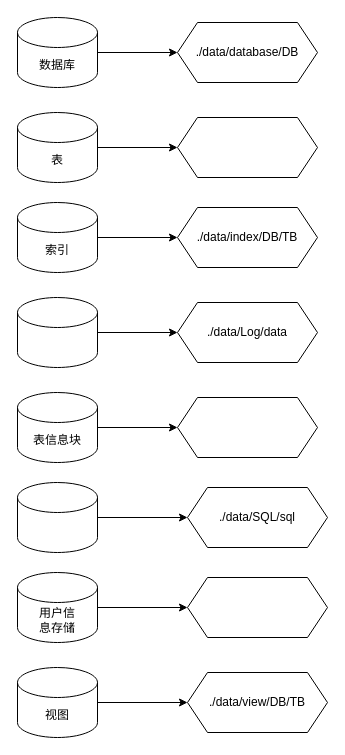
Image size: 345x755. Some labels were removed from this diagram. Here are the shapes that lost their labels. From the top down, the centre of each, then its label:
the point at 247,147: ./data/database/DB/TB
the point at 57,332: 日志
the point at 247,427: ./data/PCB/DB/TB
the point at 57,517: 脚本执 行路径
the point at 257,607: ./data/User/pd
